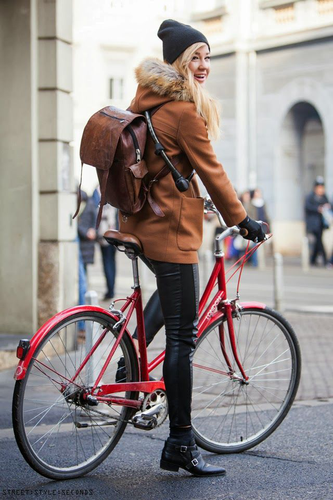bikerider: (9, 17, 318, 494)
